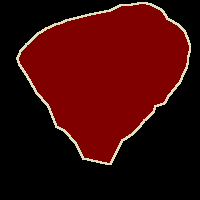hat: (17, 2, 190, 164)
